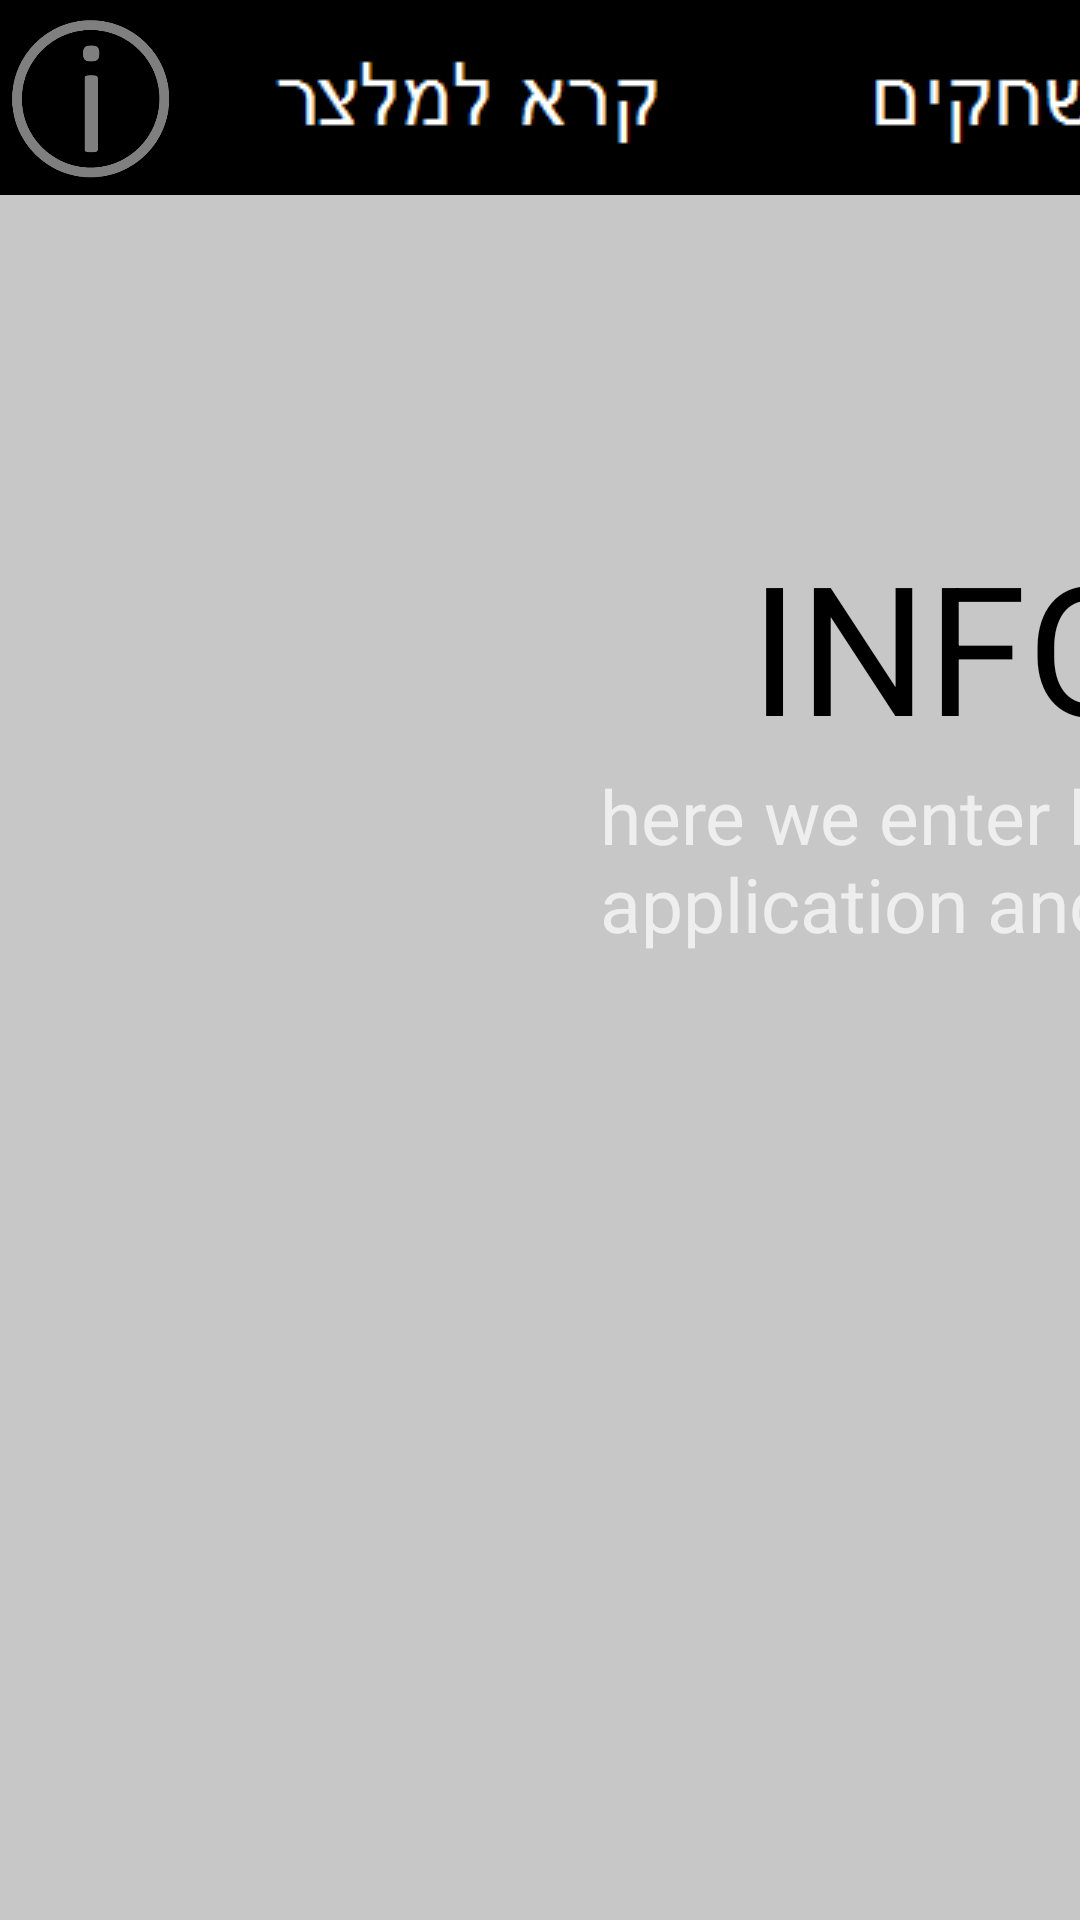

Named icons in this screenshot (1080×1920) and their centers, [x,y]:
infobtn: [90,99]
